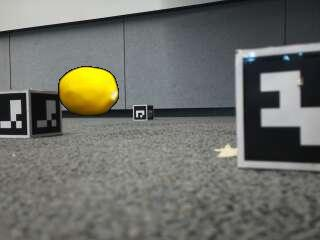lemon: (59, 66, 119, 115)
